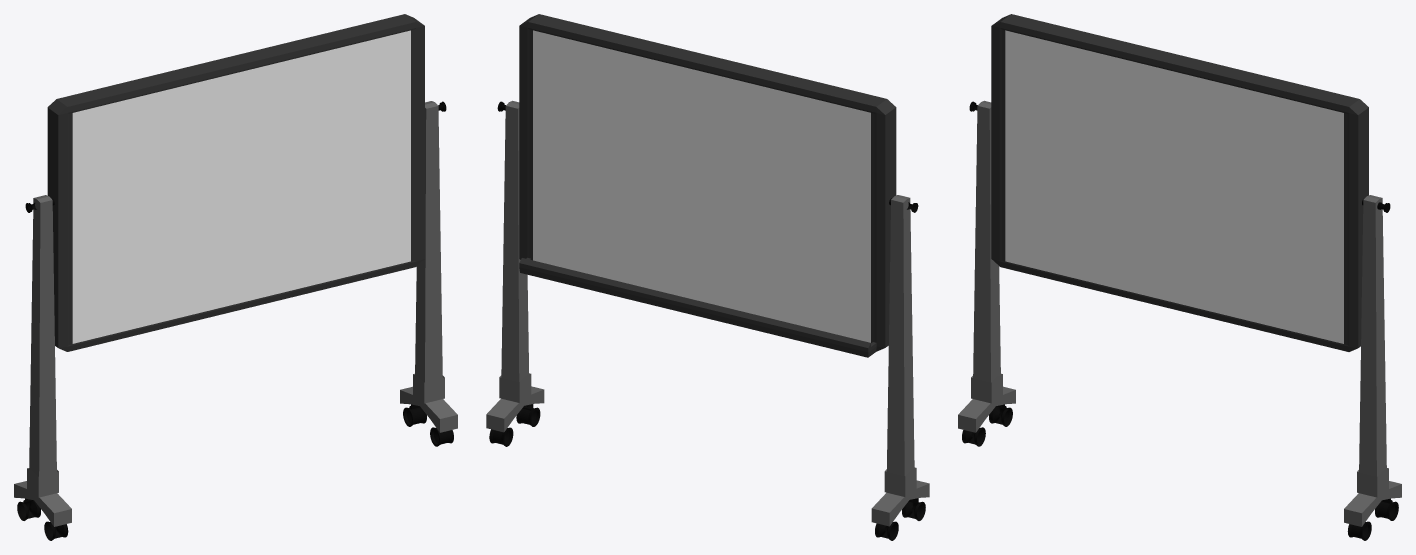
Rendered from board.fbx.
3 renders of one model, left to right at view 1: azimuth 30°, elevation 25°; view 2: azimuth 150°, elevation 25°; view 3: azimuth 330°, elevation 25°, orthographic.
Parts seen in each view (by area): view 1: Cylinder.005; view 2: Cylinder.005; view 3: Cylinder.005.
Part boxes in pixels (x1,y1,x2,y2): Cylinder.005: (14,14,457,540); Cylinder.005: (486,14,929,540); Cylinder.005: (958,14,1401,540).
Size of the model in its own units: 1092 by 1058 by 182.
